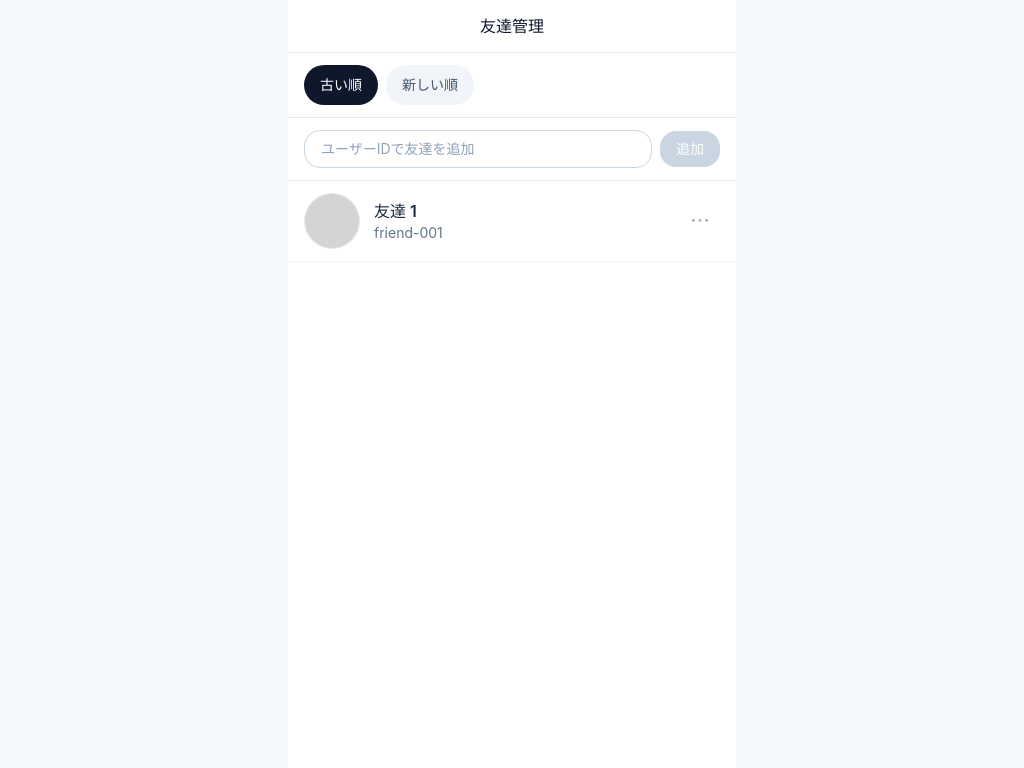
Test: FriendsPage › 詳細フライアウト › メモを表示する
Click the button named "友達 1の詳細". click: (700, 221)
box: [680,201,720,241]
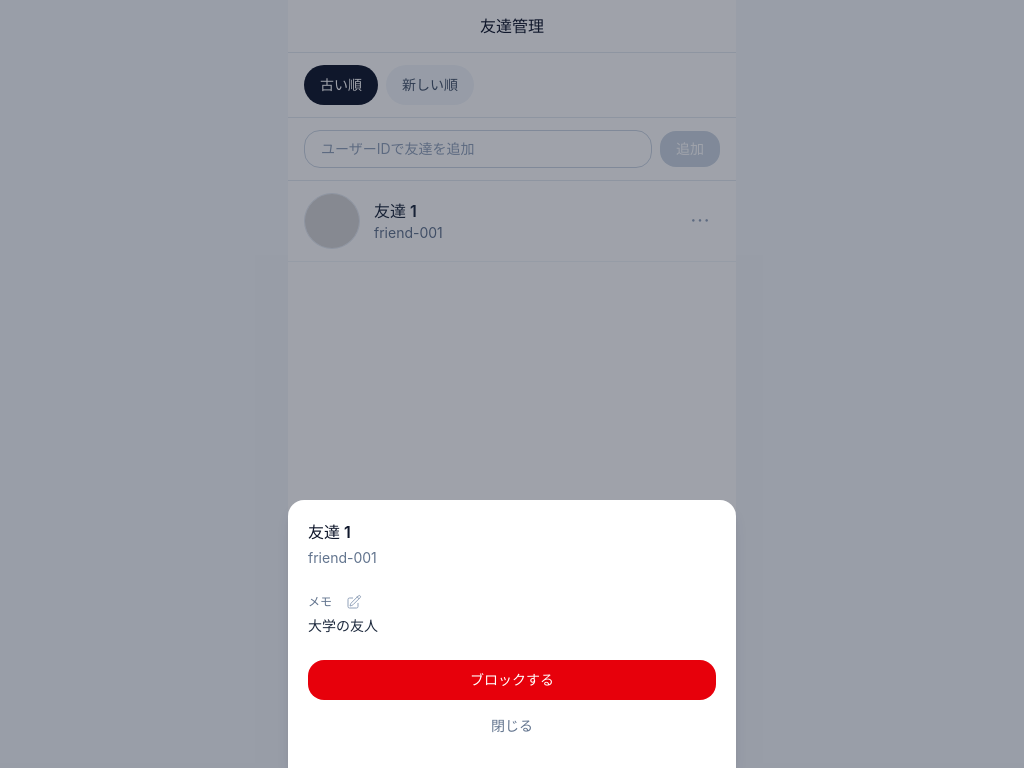
Check: the text "大学の友人" is shown, box [308,617,378,634]
